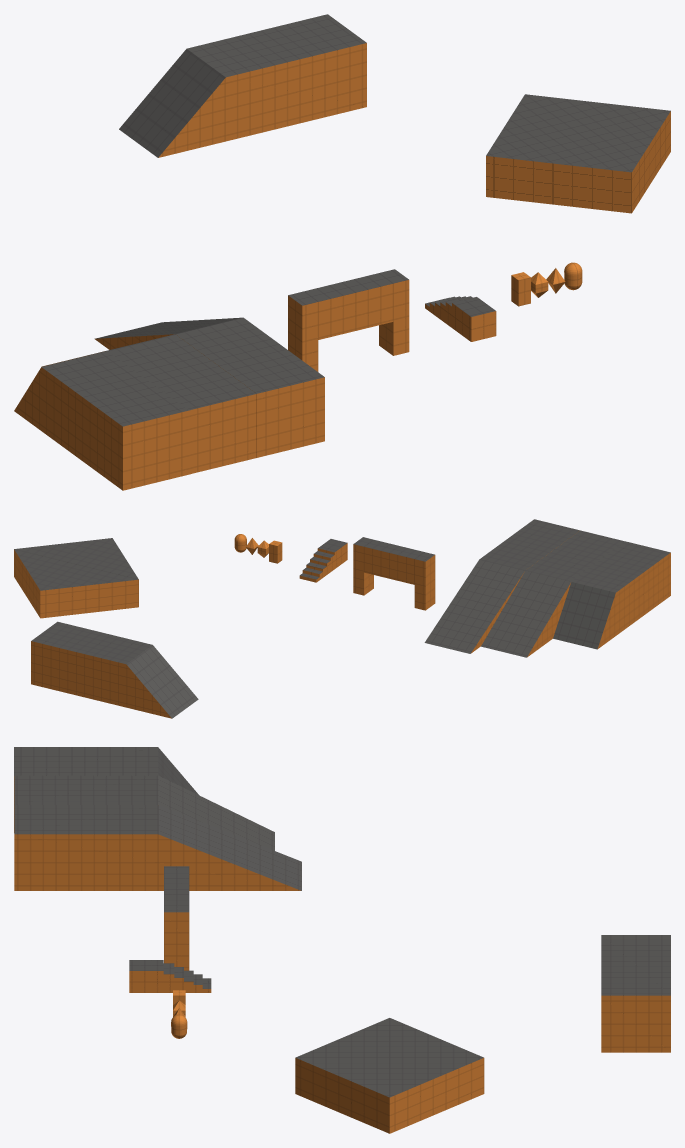
Rendered from testing_zone.glb.
3 renders of one model, top to bottom at view 1: azimuth 30°, elevation 25°; view 2: azimuth 150°, elevation 25°; view 3: azimuth 270°, elevation 25°, orthographic. The views are drawn at different scales.
Parts seen in each view (by area): view 1: Cube.001, Cube.009, Cube.004, Cube.002, Cube.003, Cube.005, Cube.006; view 2: Cube.001, Cube.004, Cube.009, Cube.002, Cube.003, Cube.005, Cube.006; view 3: Cube.002, Cube.009, Cube.001, Cube.003, Cube.004, Cube.005, Cube.006.
Part boxes in pixels (x1,y1,x2,y2): Cube.001: (119, 14, 366, 157); Cube.009: (486, 94, 670, 213); Cube.004: (14, 351, 190, 490); Cube.002: (94, 317, 324, 457); Cube.003: (41, 334, 256, 473); Cube.005: (288, 269, 409, 371); Cube.006: (425, 296, 496, 341); Cube.001: (31, 621, 198, 718); Cube.004: (553, 541, 670, 649); Cube.009: (14, 538, 138, 618); Cube.002: (424, 519, 579, 653); Cube.003: (481, 530, 624, 657); Cube.005: (353, 537, 435, 610); Cube.006: (299, 539, 347, 582); Cube.002: (14, 805, 301, 890); Cube.009: (295, 1018, 484, 1133); Cube.001: (601, 935, 670, 1052); Cube.003: (14, 775, 274, 850); Cube.004: (14, 747, 199, 832); Cube.005: (164, 866, 189, 970); Cube.006: (129, 960, 211, 992).
Size of what is drawn, in the model's own units: 60.91 by 5.98 by 51.52.
Materials: 2 (2 with a texture image).
